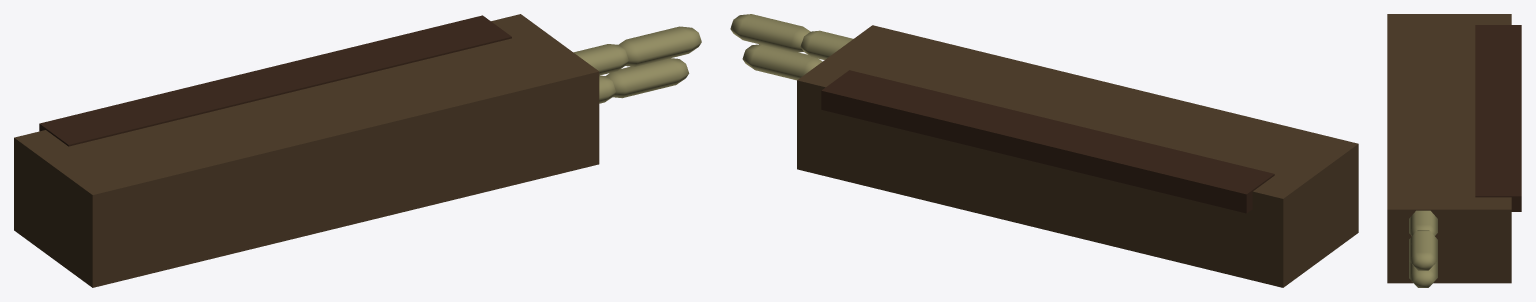
Rendered from perimeter-berm.glb.
3 renders of one model, left to right at view 1: azimuth 30°, elevation 25°; view 2: azimuth 150°, elevation 25°; view 3: azimuth 270°, elevation 25°, orthographic. The views are drawn at different scales.
Parts seen in each view (by area): view 1: bermMass, firingStep, crestBag2_8, crestBag1_8, crestBag2_7; view 2: bermMass, firingStep, crestBag2_8, crestBag1_8, crestBag2_7; view 3: bermMass, firingStep, crestBag2_8, crestBag2_7, crestBag1_8.
Boxes of the visible parts, x1,y1,x2,y2 form: bermMass: (14, 14, 599, 287); firingStep: (39, 15, 511, 146); crestBag2_8: (618, 26, 701, 66); crestBag1_8: (606, 58, 689, 98); crestBag2_7: (573, 44, 628, 75); bermMass: (797, 25, 1358, 287); firingStep: (821, 70, 1274, 213); crestBag2_8: (730, 14, 810, 52); crestBag1_8: (742, 44, 822, 80); crestBag2_7: (800, 30, 852, 59); bermMass: (1387, 14, 1511, 283); firingStep: (1475, 25, 1521, 211); crestBag2_8: (1409, 230, 1437, 270); crestBag2_7: (1409, 210, 1437, 235); crestBag1_8: (1409, 261, 1437, 287).
Bounding box in the file's own units: 3.98 × 0.57 × 0.93.
